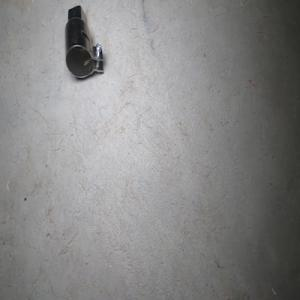MetalPart: (64, 4, 104, 78)
